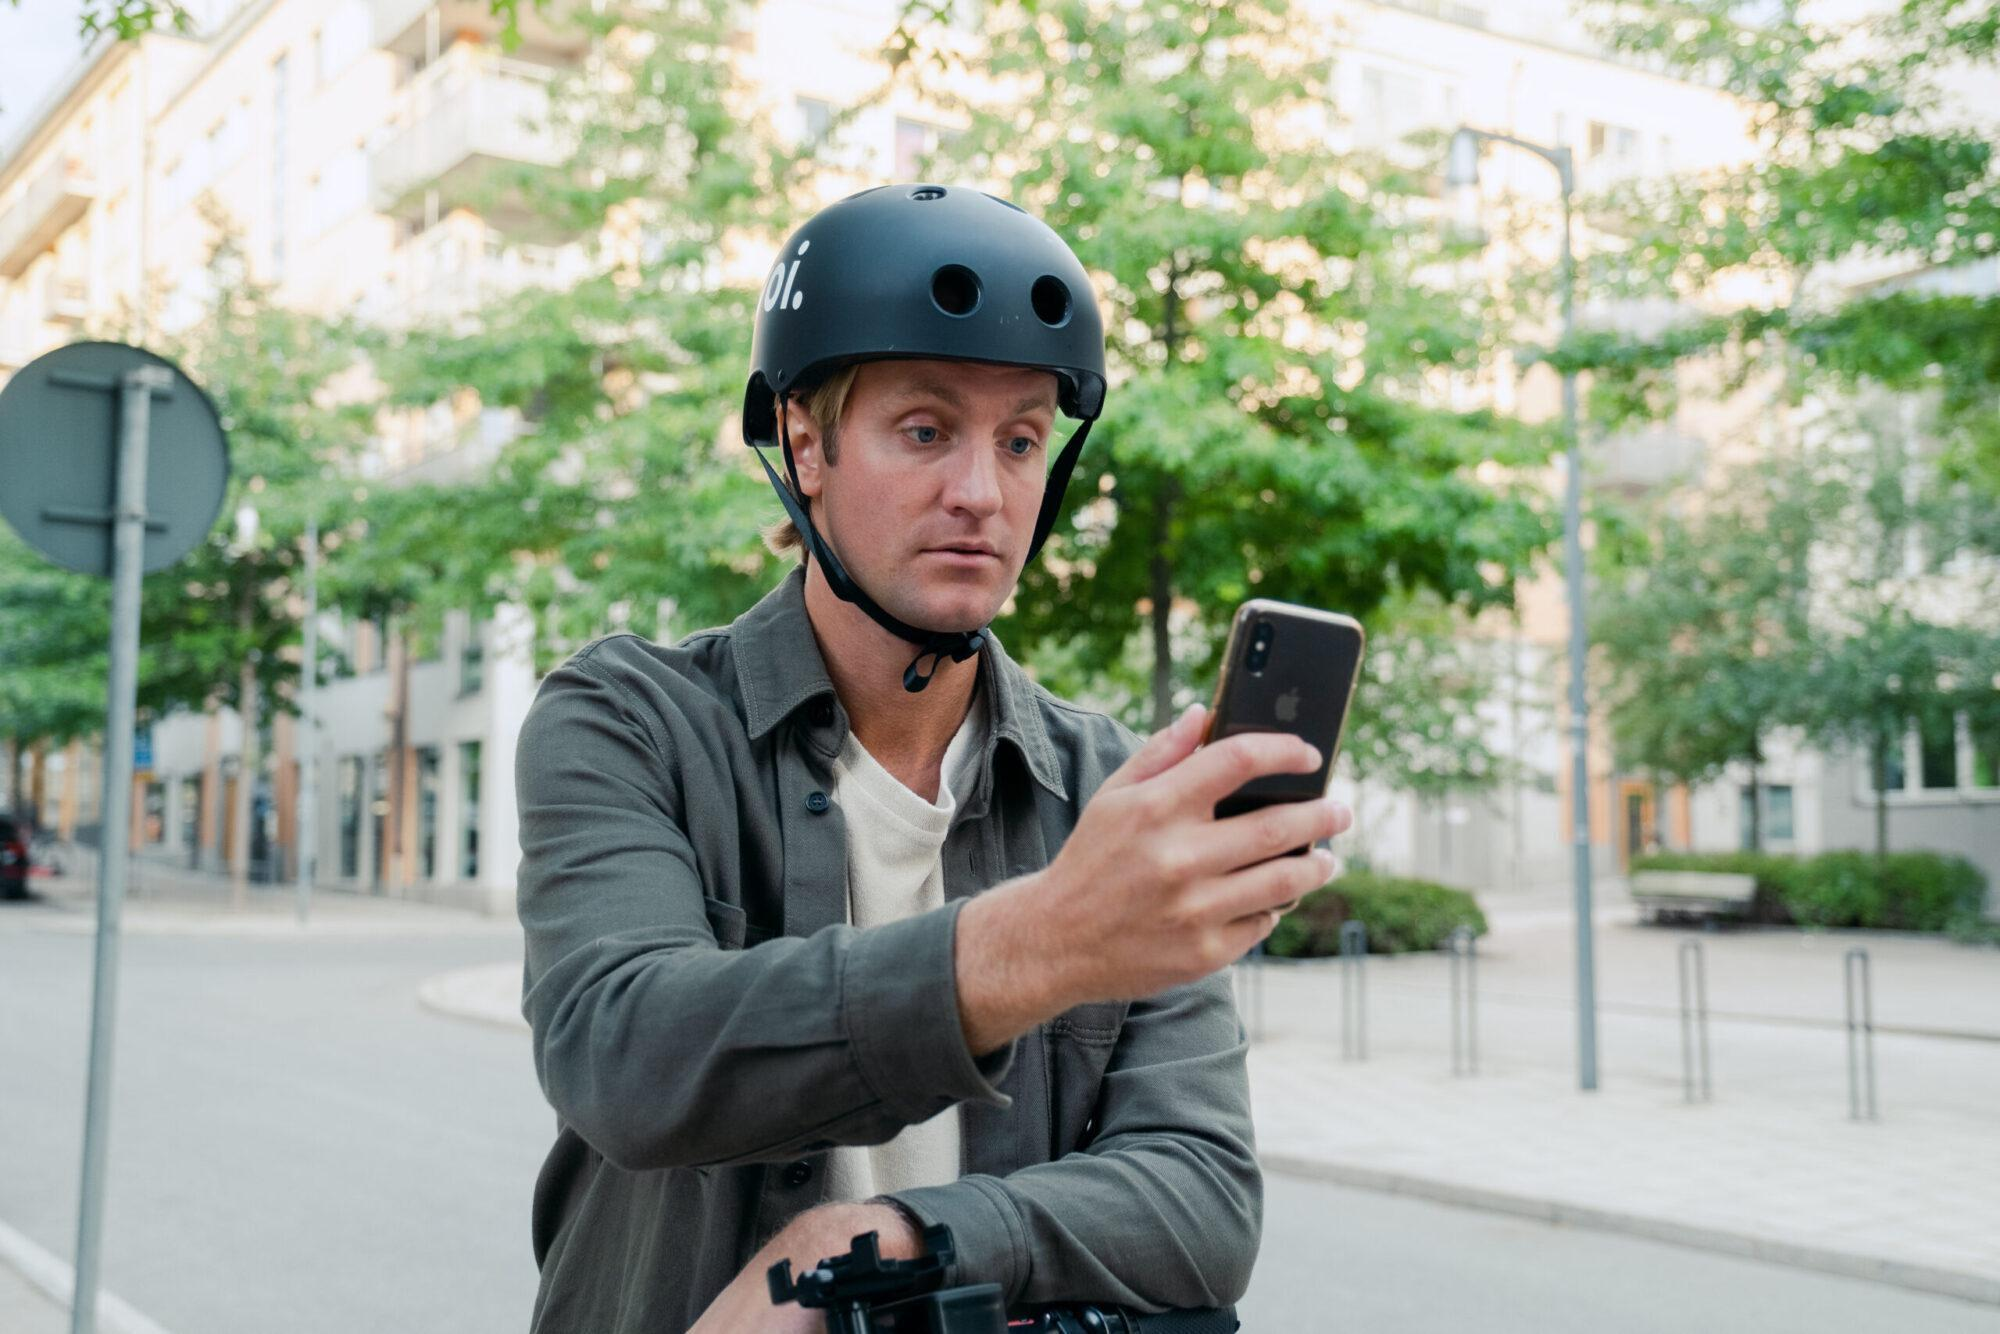helmet: (744, 182, 1109, 412)
